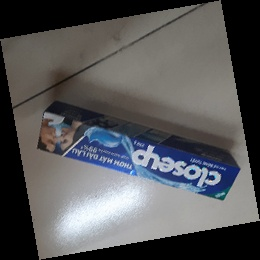CloseUp Tuyet: (35, 99, 242, 203)
